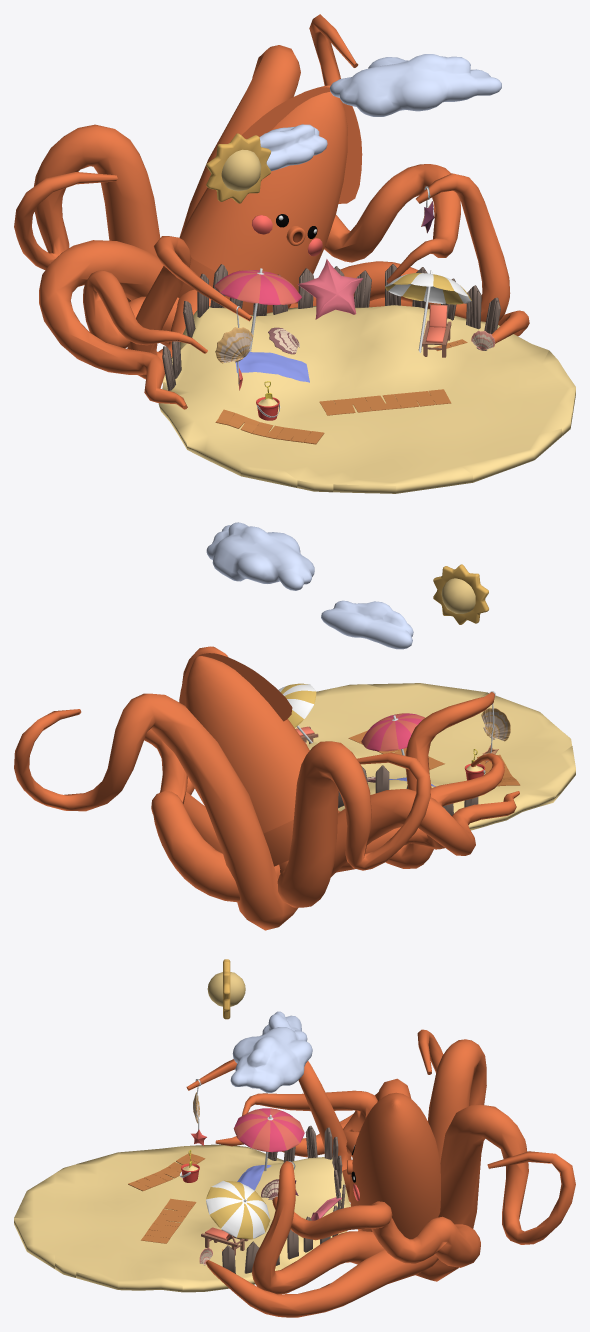
The model's file is squidinterior.glb.
3 views of the same model, one above another, from view 1: azimuth 30°, elevation 25°; view 2: azimuth 150°, elevation 25°; view 3: azimuth 270°, elevation 25° (orthographic). The views are drawn at different scales.
Parts seen in each view (by area): view 1: ground, body, NurbsPath.006, NurbsPath.004, Mball.001, NurbsPath.005, NurbsPath.007, NurbsPath.001, NurbsPath, NurbsPath.002, squid.001, Circle.003 (+10 smaller); view 2: ground, NurbsPath.007, NurbsPath.006, body, Mball.001, NurbsPath.005, NurbsPath.004, NurbsPath, NurbsPath.002, Circle.003, squid.001, Circle (+5 smaller); view 3: ground, NurbsPath.007, body, NurbsPath.005, NurbsPath.001, NurbsPath.003, NurbsPath.006, Mball.001, Circle.002, NurbsPath, NurbsPath.002, Circle.003 (+5 smaller).
Part boxes in pixels (x1=…): ground: x1=158, y1=305, x2=575, y2=493; body: x1=179, y1=85, x2=347, y2=303; NurbsPath.006: x1=14, y1=124, x2=168, y2=345; NurbsPath.004: x1=39, y1=240, x2=187, y2=409; Mball.001: x1=259, y1=54, x2=501, y2=171; NurbsPath.005: x1=324, y1=164, x2=460, y2=283; NurbsPath.007: x1=180, y1=14, x2=358, y2=235; NurbsPath.001: x1=289, y1=173, x2=510, y2=321; NurbsPath: x1=127, y1=236, x2=251, y2=379; NurbsPath.002: x1=83, y1=270, x2=207, y2=353; squid.001: x1=241, y1=87, x2=362, y2=203; Circle.003: x1=214, y1=268, x2=301, y2=305; ground: x1=295, y1=683, x2=575, y2=830; NurbsPath.007: x1=14, y1=693, x2=298, y2=930; NurbsPath.006: x1=277, y1=741, x2=430, y2=907; body: x1=185, y1=656, x2=309, y2=833; Mball.001: x1=206, y1=522, x2=413, y2=649; NurbsPath.005: x1=144, y1=729, x2=280, y2=902; NurbsPath.004: x1=279, y1=789, x2=519, y2=877; NurbsPath: x1=339, y1=692, x2=494, y2=868; NurbsPath.002: x1=336, y1=753, x2=504, y2=872; Circle.003: x1=361, y1=713, x2=424, y2=751; squid.001: x1=179, y1=653, x2=292, y2=721; Circle: x1=433, y1=564, x2=488, y2=624; ground: x1=14, y1=1144, x2=350, y2=1292; NurbsPath.007: x1=415, y1=1104, x2=575, y2=1281; body: x1=349, y1=1092, x2=440, y2=1239; NurbsPath.005: x1=272, y1=1196, x2=480, y2=1267; NurbsPath.001: x1=252, y1=1161, x2=384, y2=1294; NurbsPath.003: x1=206, y1=1249, x2=438, y2=1317; NurbsPath.006: x1=417, y1=1029, x2=486, y2=1162; Mball.001: x1=230, y1=1011, x2=312, y2=1092; Circle.002: x1=206, y1=1180, x2=270, y2=1239; NurbsPath: x1=186, y1=1059, x2=351, y2=1201; NurbsPath.002: x1=242, y1=1090, x2=377, y2=1157; Circle.003: x1=233, y1=1108, x2=304, y2=1152.
Size of the model in its own units: 1.12 by 0.9477 by 1.67.
